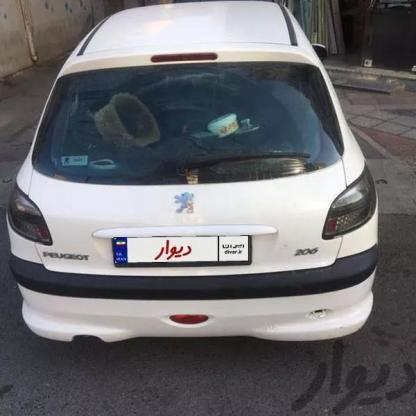Car: (0, 0, 385, 362)
